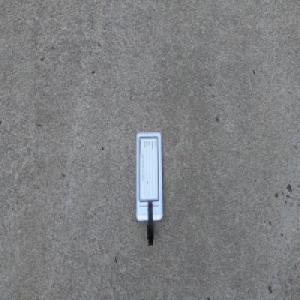LuggageTag: (134, 130, 163, 248)
